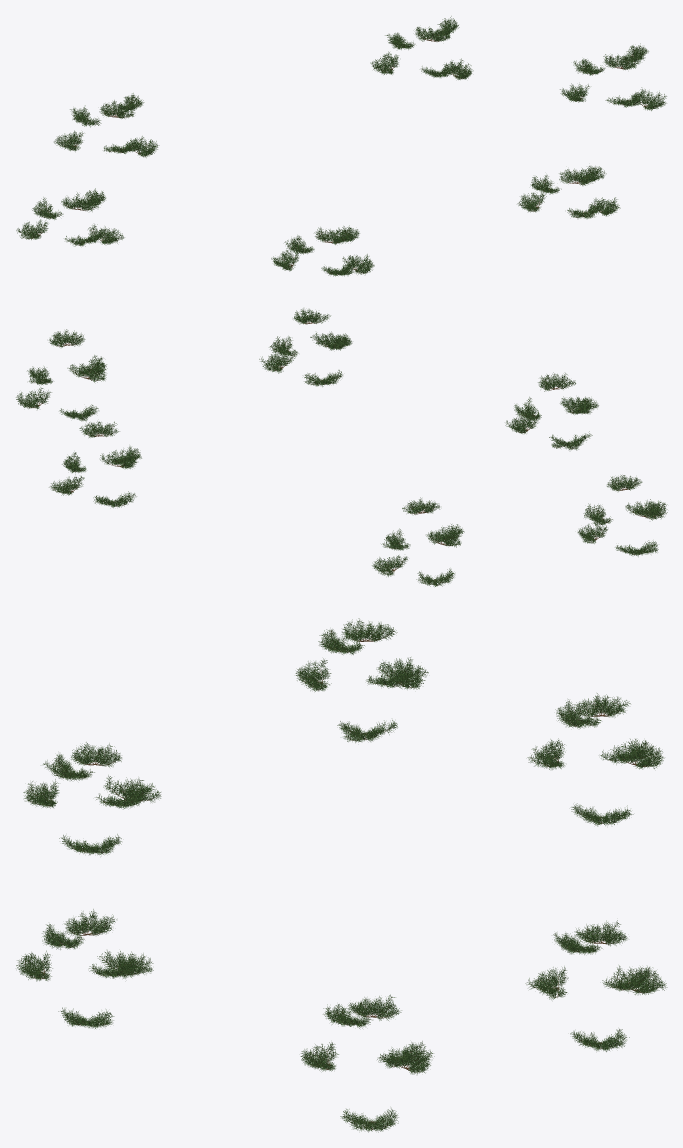
The model's file is pine-crowns.glb.
3 renders of one model, top to bottom at view 1: azimuth 30°, elevation 25°; view 2: azimuth 150°, elevation 25°; view 3: azimuth 270°, elevation 25°, orthographic. The views are drawn at different scales.
Visible parts, largest first — view 1: Pine 3 needles, Pine 2 needles, Pine 0 needles, Pine 5 needles, Pine 4 needles, Pine 1 needles; view 2: Pine 0 needles, Pine 3 needles, Pine 2 needles, Pine 1 needles, Pine 5 needles, Pine 4 needles; view 3: Pine 2 needles, Pine 0 needles, Pine 1 needles, Pine 4 needles, Pine 3 needles, Pine 5 needles.
Part boxes in pixels (x1,y1,x2,y2): Pine 3 needles: (560, 43, 666, 110); Pine 2 needles: (16, 188, 124, 246); Pine 0 needles: (54, 93, 159, 157); Pine 5 needles: (517, 166, 620, 218); Pine 4 needles: (271, 225, 374, 276); Pine 1 needles: (370, 16, 473, 79); Pine 0 needles: (372, 497, 464, 586); Pine 3 needles: (16, 329, 107, 421); Pine 2 needles: (577, 475, 667, 556); Pine 1 needles: (49, 421, 141, 507); Pine 5 needles: (259, 308, 352, 386); Pine 4 needles: (505, 372, 598, 450); Pine 2 needles: (295, 618, 428, 742); Pine 0 needles: (527, 693, 664, 826); Pine 1 needles: (525, 920, 667, 1051); Pine 4 needles: (23, 742, 161, 854); Pine 3 needles: (300, 994, 434, 1132); Pine 5 needles: (16, 909, 153, 1028).
Bounding box in the file's own units: 29.98 × 3.23 × 18.17.
